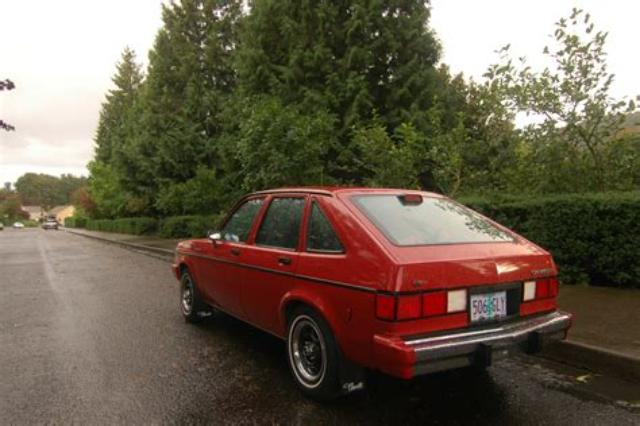chevette-1983: (173, 188, 571, 400)
